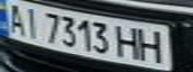1: (72, 17, 93, 52)
3: (90, 19, 115, 56), (54, 14, 78, 48)
7: (39, 10, 63, 44)
A: (0, 1, 30, 35)
H: (136, 26, 172, 65), (112, 24, 145, 61)
I: (18, 6, 45, 39)
